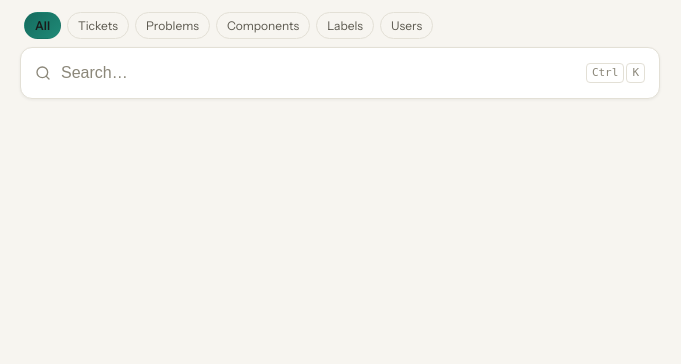
GlobalSearchBar — polish (A4) › (a2) shows at most 5 recent entries
Click the search field at (318, 73), box [61,52,576,94]
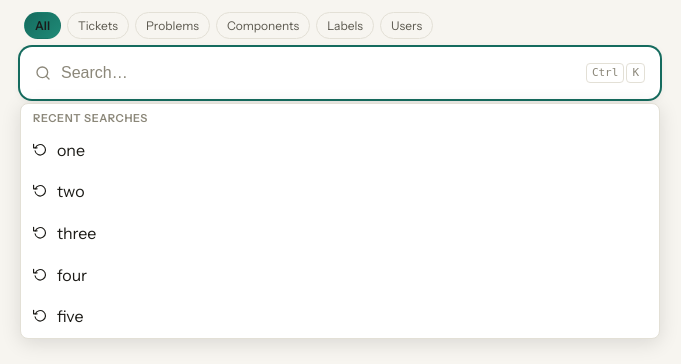
Check: the text "one" is shown, box [57,138,85,163]
